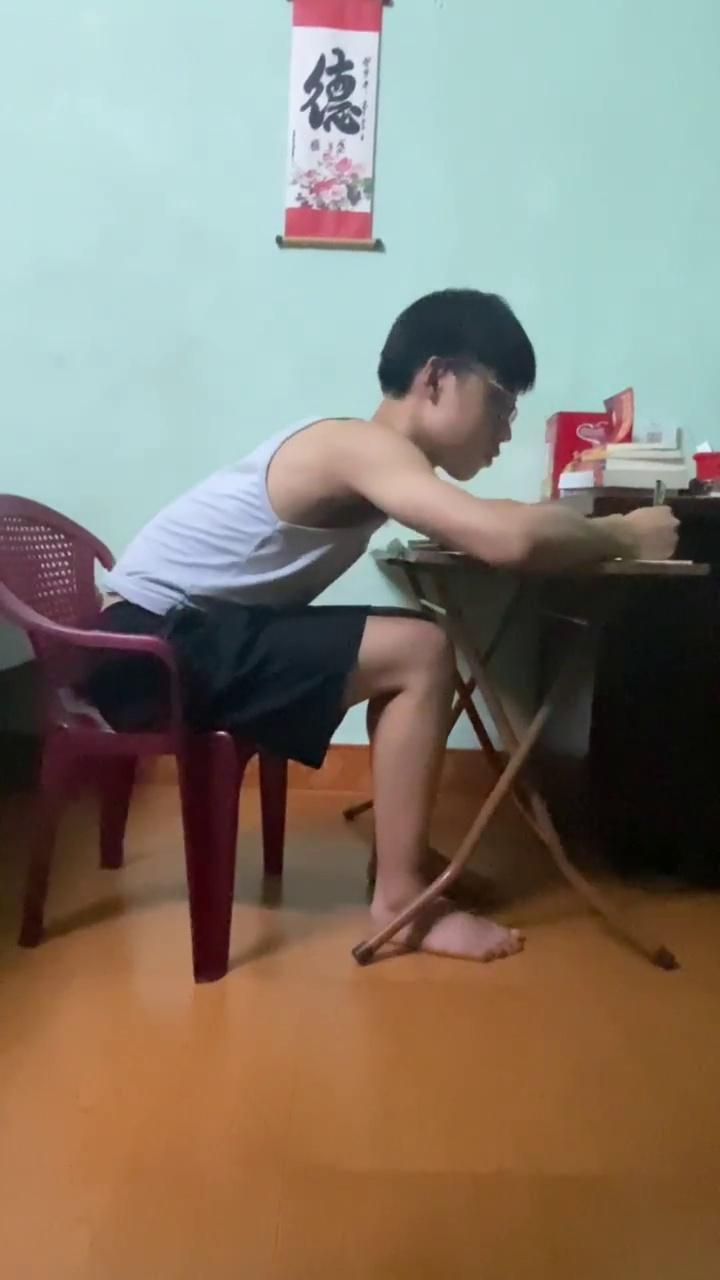BadPosture: (103, 288, 676, 961)
